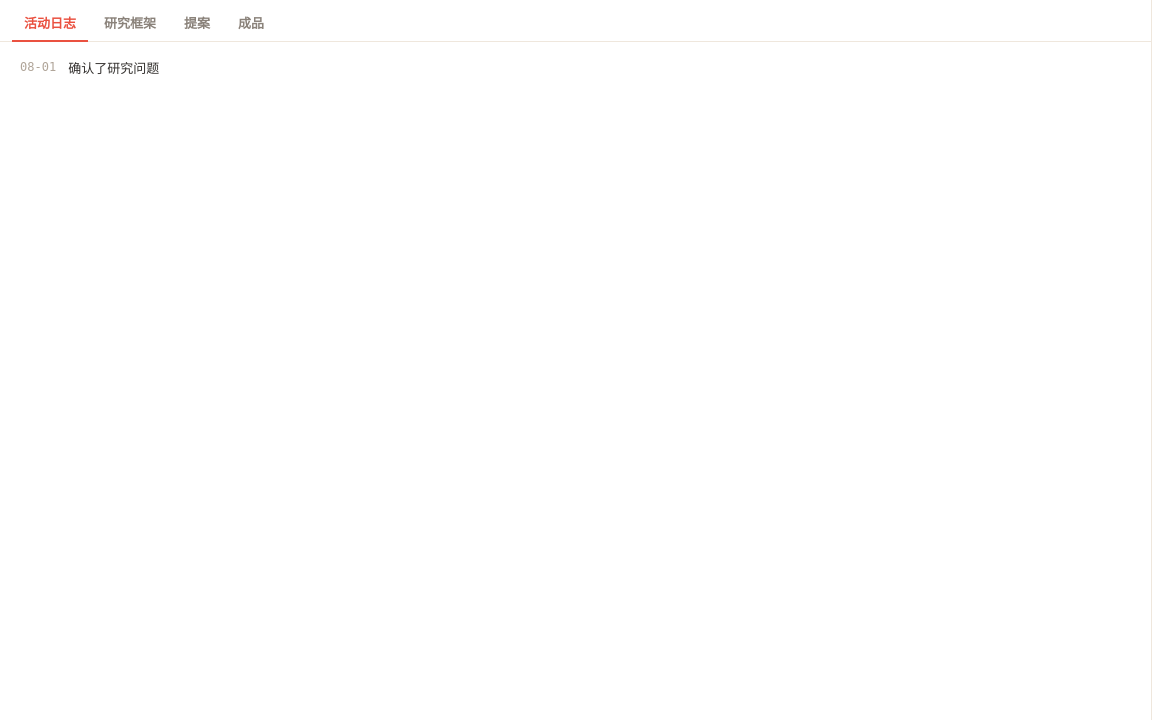
Test: ReviewArtifacts › renders the four tabs; log is default; switching shows framework + finished paper
Expected: the button "活动日志" is shown, [12,8,88,42]
Expected: the button "提案" is shown, [172,8,222,42]
framework tab shows the objective
Click the button "研究框架" at (130, 25), box [92,8,168,42]
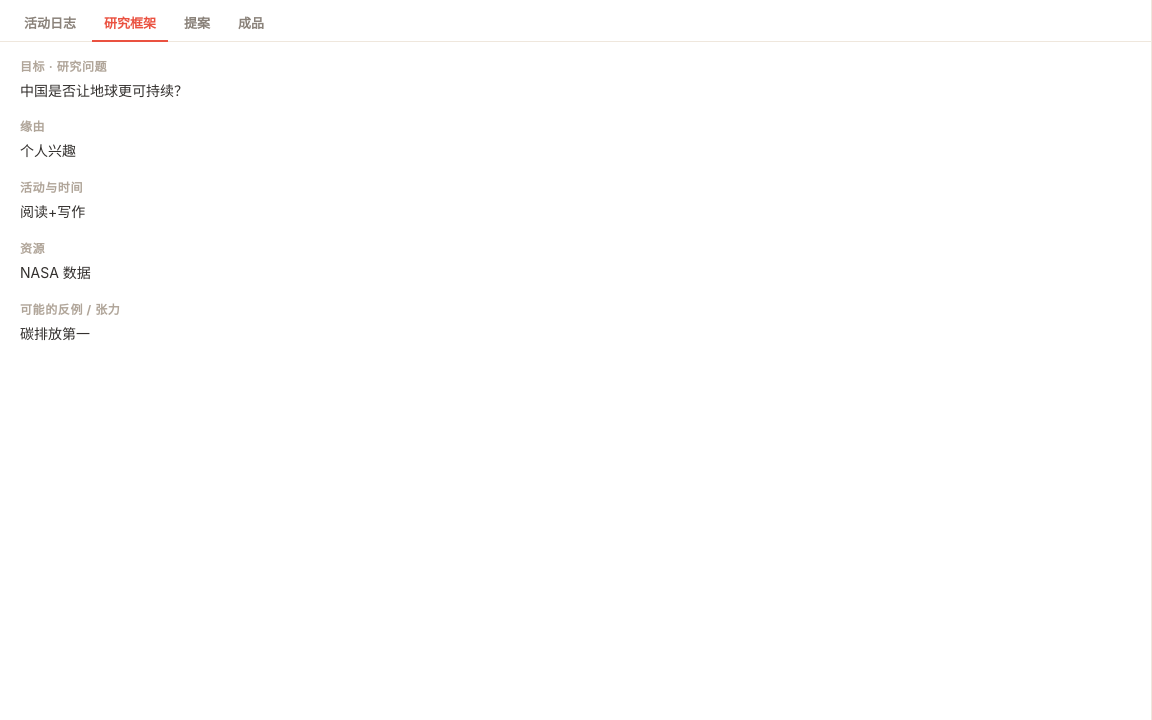
Result: the text "中国是否让地球更可持续？" is shown at [20,82,188,98]
成品 tab shows the finished paper
Click the button "成品" at (251, 25), box [226,8,276,42]
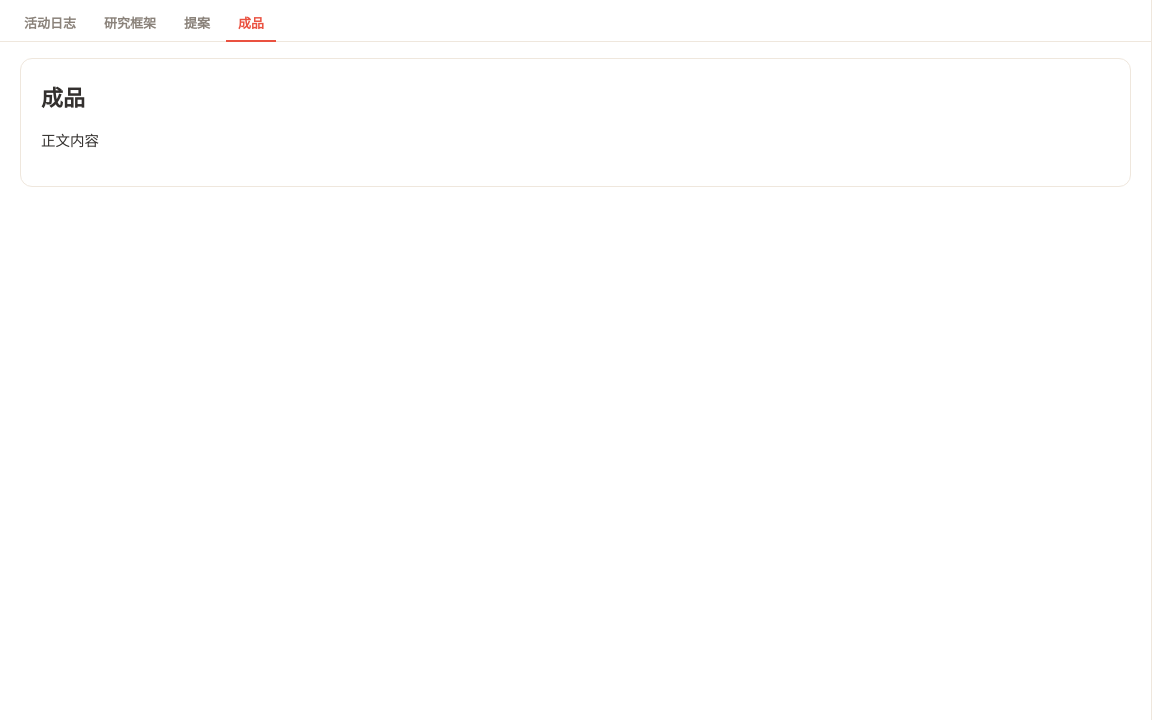
Result: the text "正文内容" is shown at [41,132,99,149]
